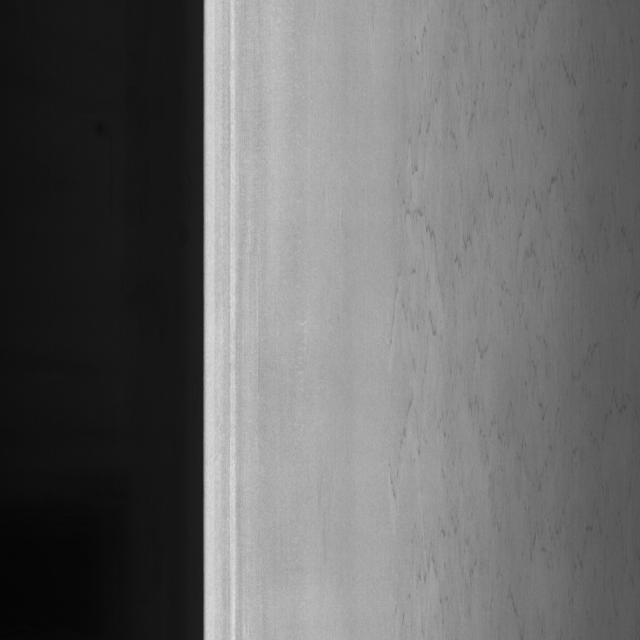inclusion: (390, 10, 618, 593)
